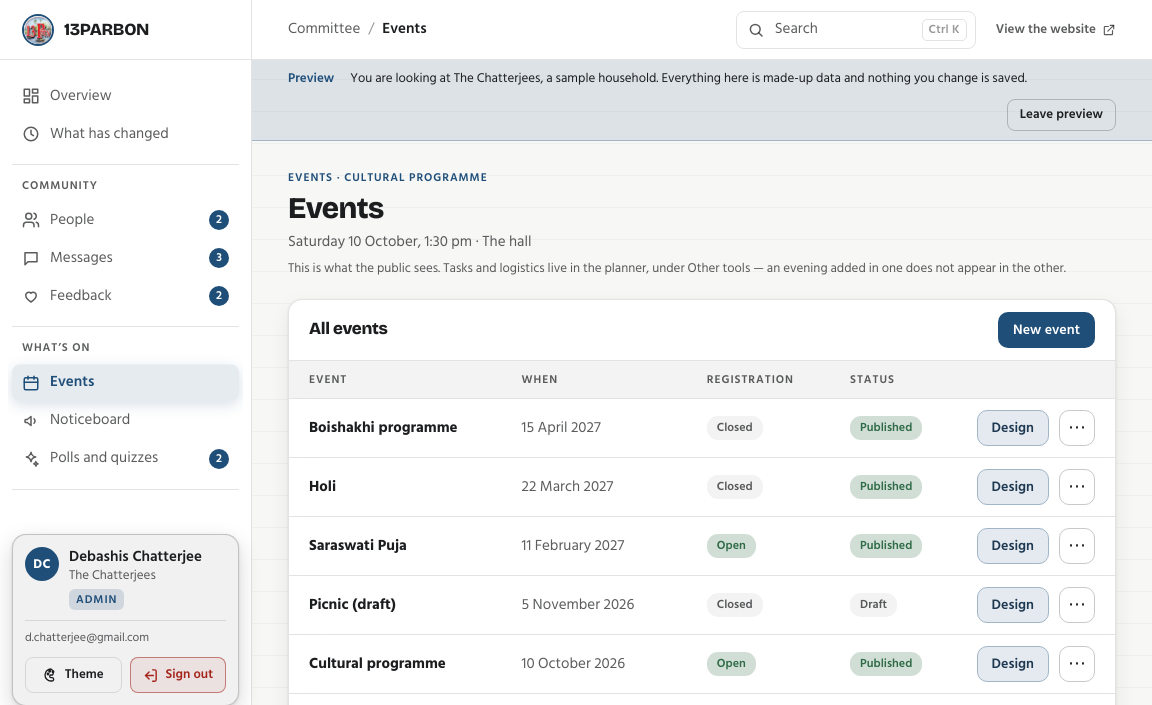
Test: deleting an event › asks first, and keeping it changes nothing
Click the button named "More for Picnic (draft)" at (1077, 605), box [1059,587,1095,623]
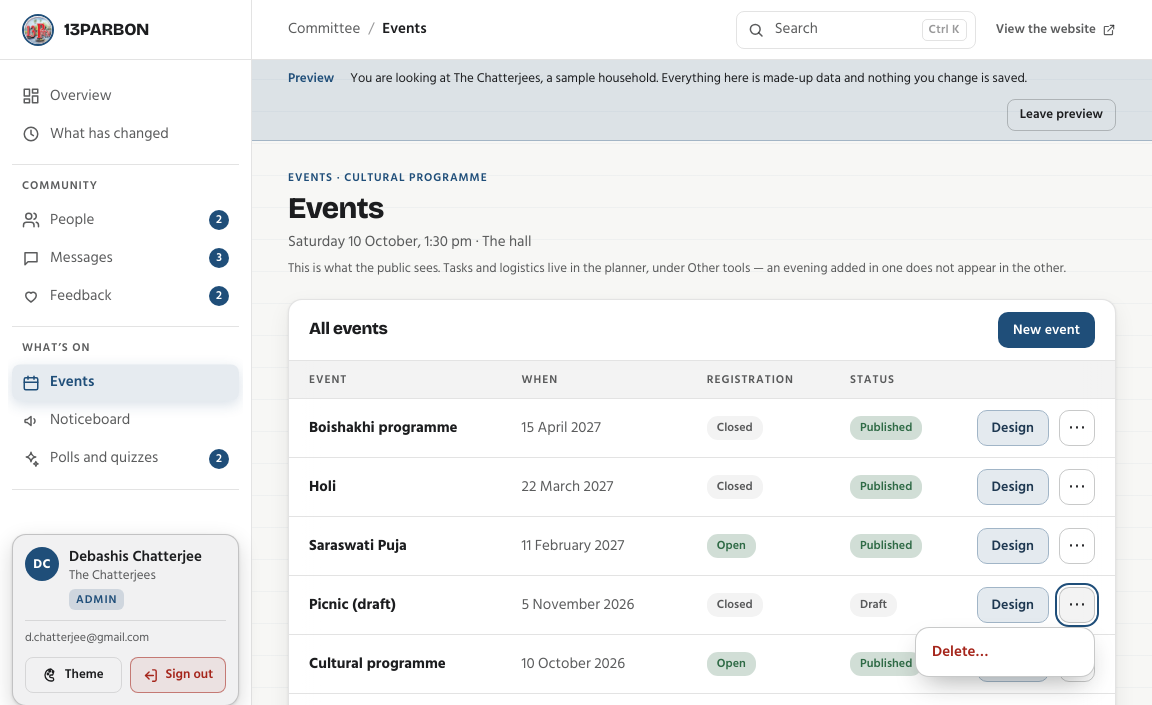
Click the button "Delete…" at (1005, 652), box [920,632,1090,672]
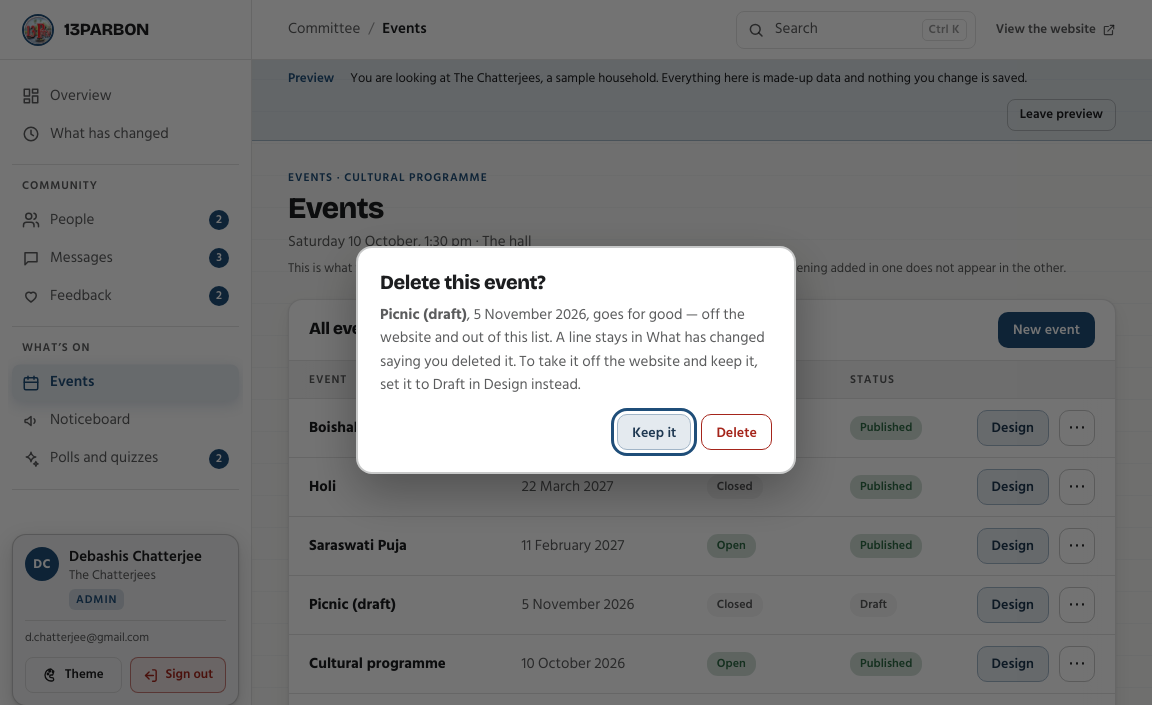
Expected: the dialog "Delete this event?" shows "set it to Draft in Design instead", [380,348,758,397]
Click the button "Keep it" at (654, 432), box [617,414,691,450]
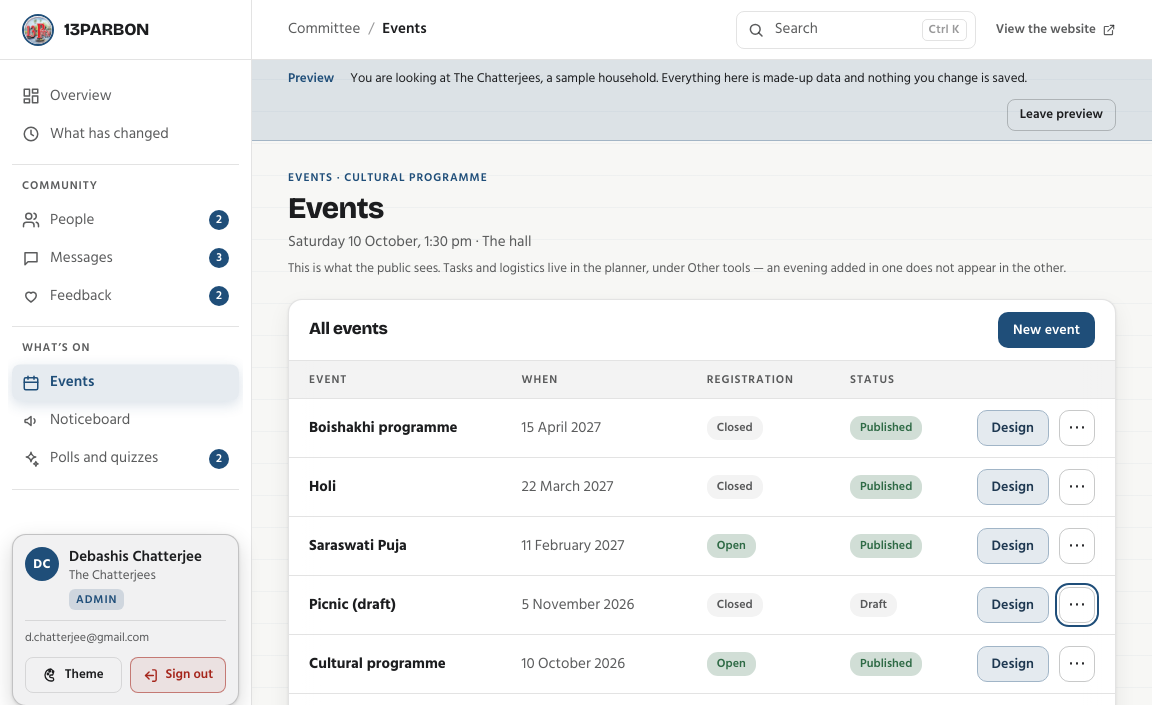
Expected: the row "Picnic (draft) 5 November 2026 Closed Draft Design ⋯" is shown, [289,575,1115,634]
Expected: the dialog is gone
